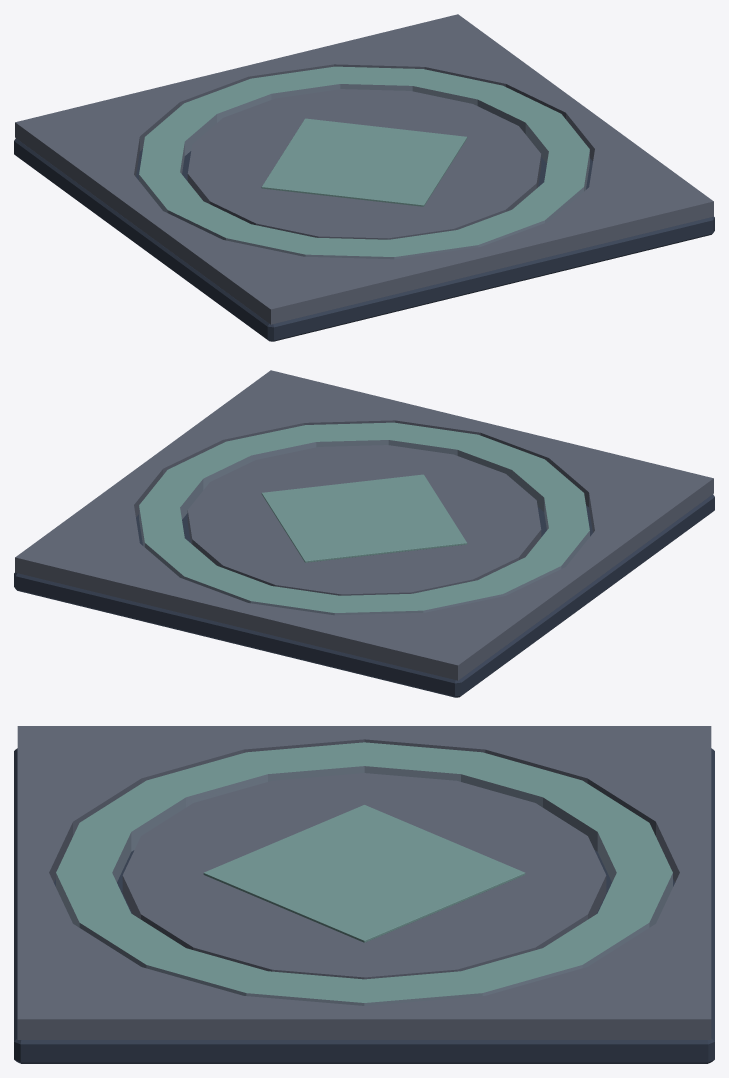
Rendered from floor-radial.glb.
The picture shows the model from 3 angles, top to bottom: view 1: azimuth 30°, elevation 25°; view 2: azimuth 150°, elevation 25°; view 3: azimuth 270°, elevation 25°; orthographic projection. The views are drawn at different scales.
Parts seen in each view (by area): view 1: floor-radial__body; view 2: floor-radial__body; view 3: floor-radial__body.
Part boxes in pixels (box(x1,y1,x2,y2)): floor-radial__body: box(14, 14, 714, 341); floor-radial__body: box(14, 370, 714, 697); floor-radial__body: box(14, 726, 714, 1063).
Size of the model in its own units: 2 by 0.14 by 2.
